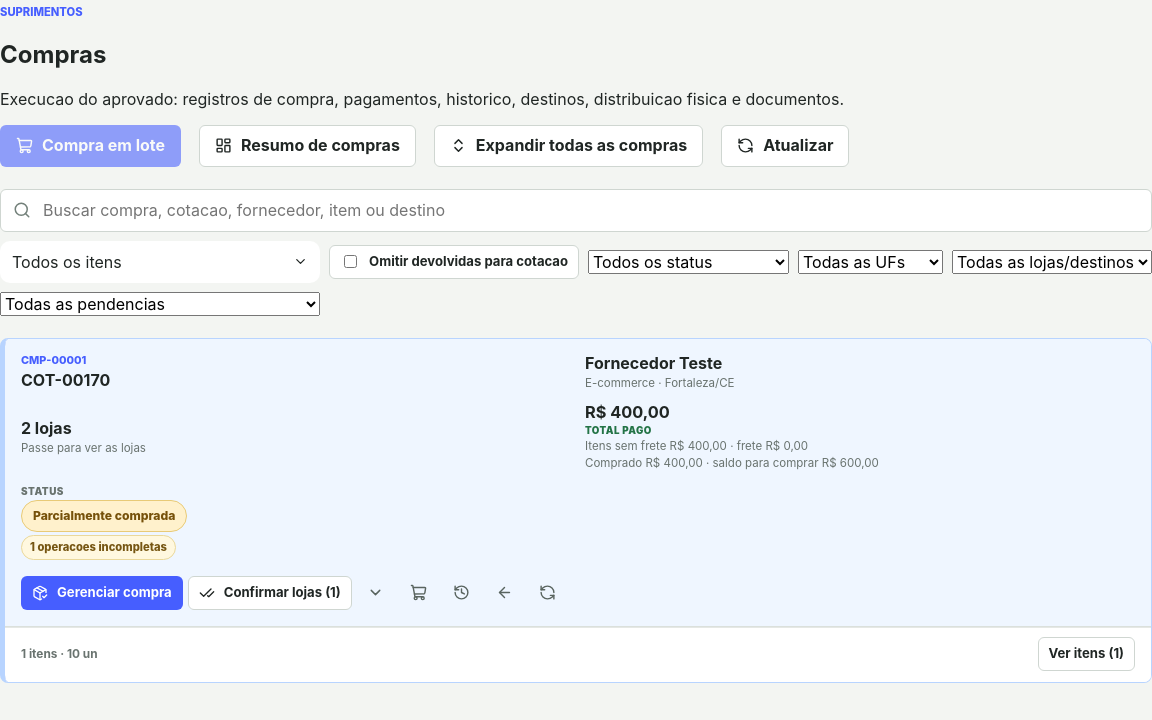
SupplyPurchasesPage V2 › deixa fallback legado explicito no resumo e rateia o aprovado por loja
This screenshot has width=1152, height=720.
Expected: the text "CMP-00001" is shown, [21,353,86,367]
Click the button named "Resumo CMP-00001" at (419, 592), box [400,574,438,612]
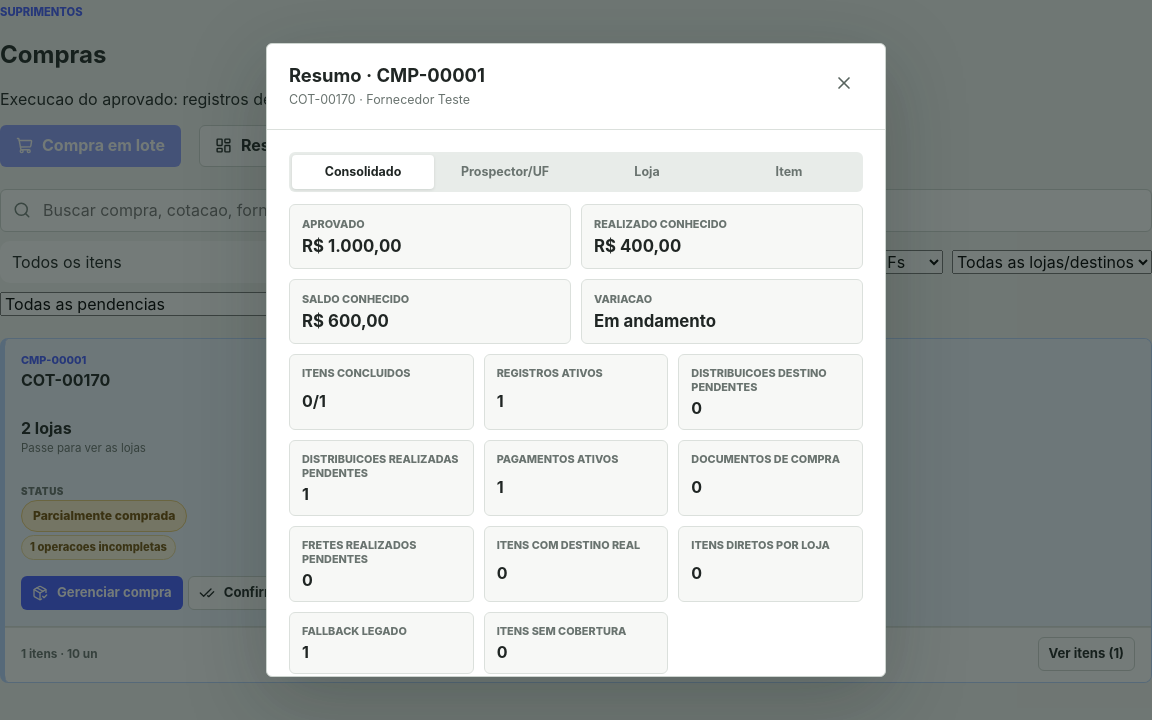
Click the button "Prospector/UF" at (505, 172), box [434,155,576,189]
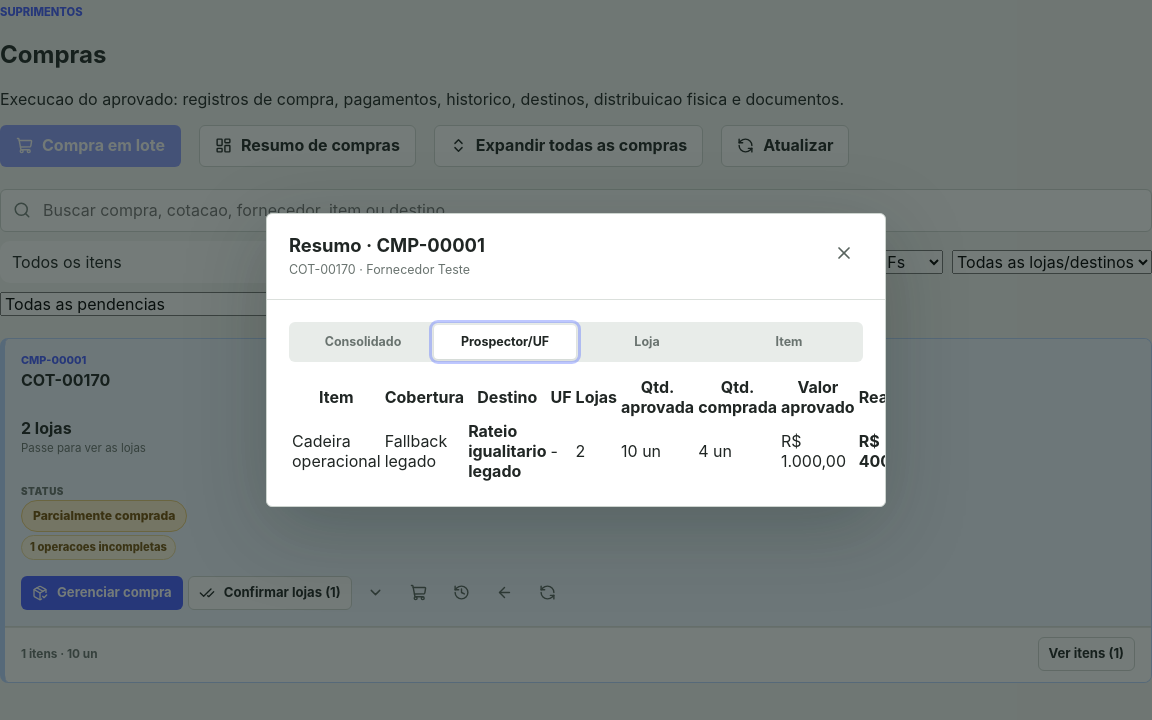
Expected: the text "Fallback legado" is shown, [384,420,465,482]
Expected: the text "Rateio igualitario legado" is shown, [468,421,546,481]
Click the button "Loja" at (647, 342), box [576,325,718,359]
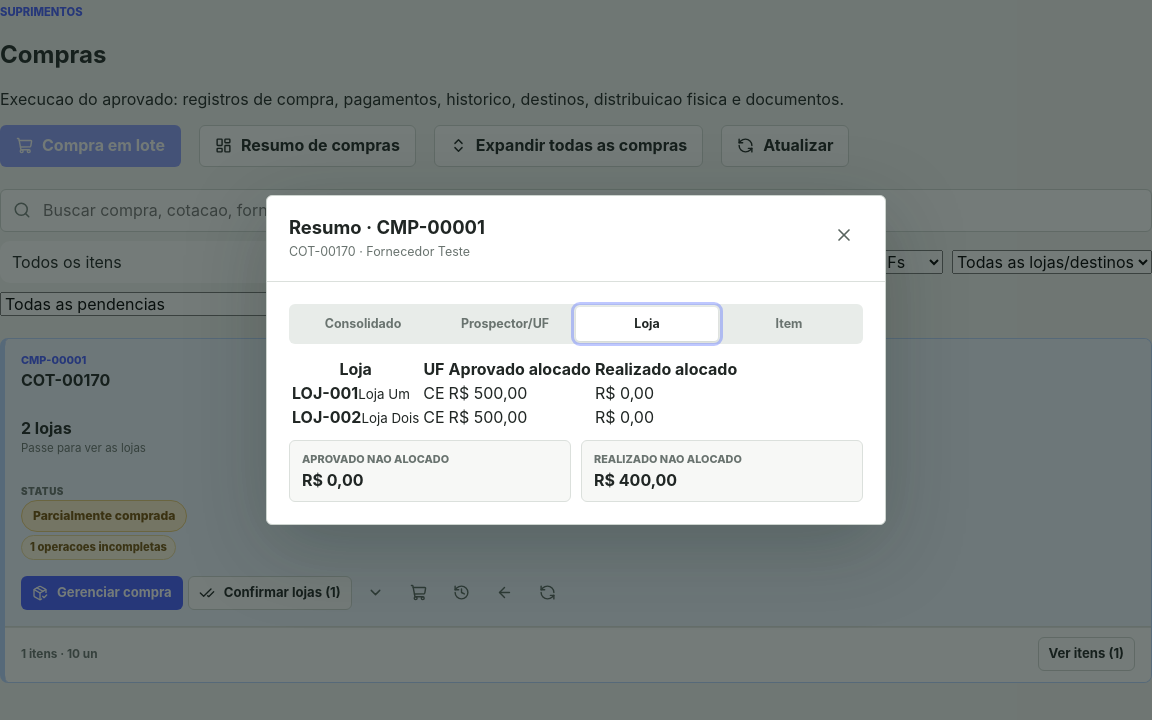
Expected: the text "R$ 500,00" is shown 2 times, [448,382,592,404]; [448,406,592,428]
Expected: the text "R$ 0,00" is shown, [302,470,364,490]
